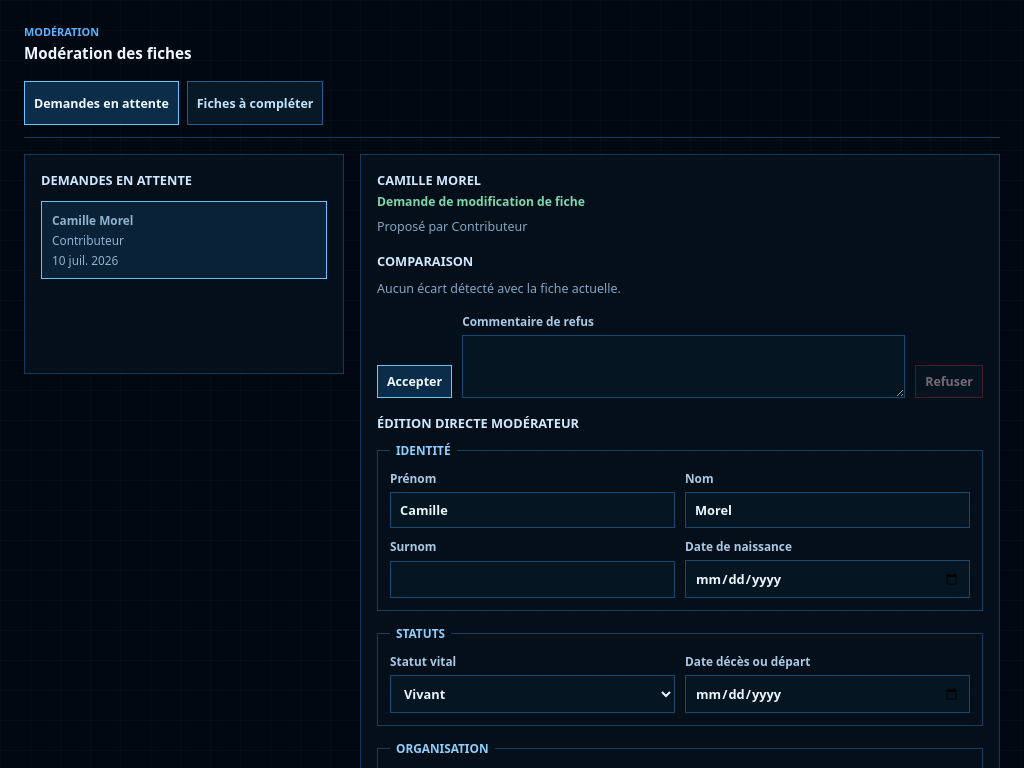
Test: ModerationView › rejects a request with the moderator comment
Type "Doublon" into the text box labelled "Commentaire de refus" at (684, 366), box [462,335,905,398]
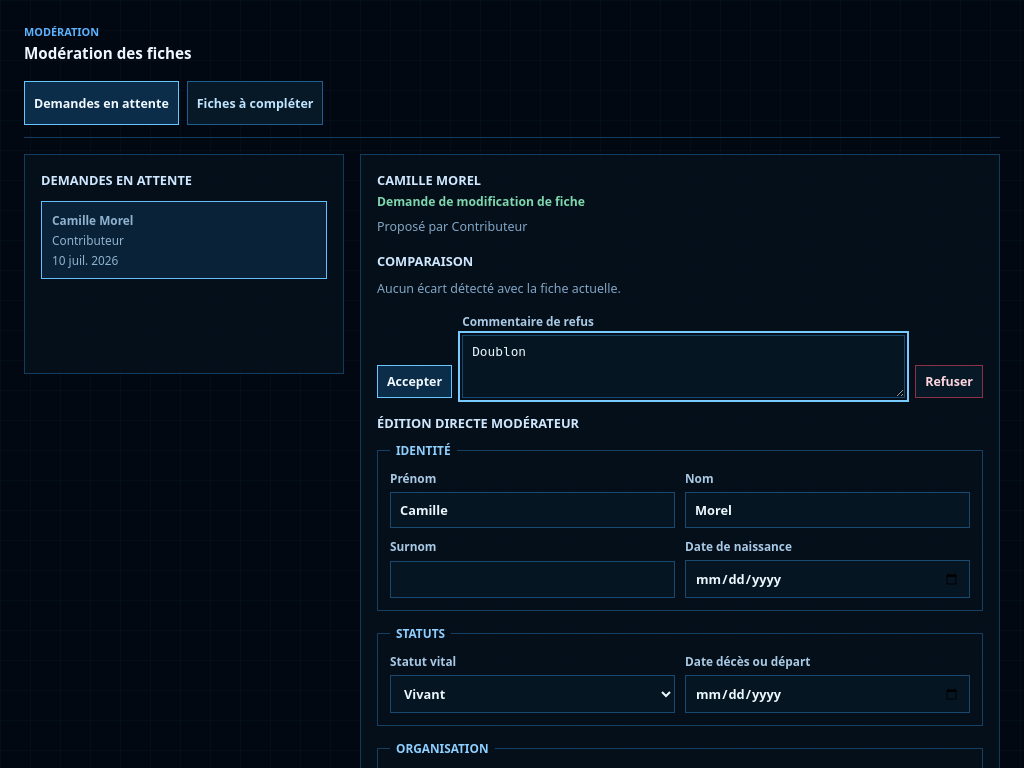
Click the button "Refuser" at (949, 382), box [915,365,983,398]
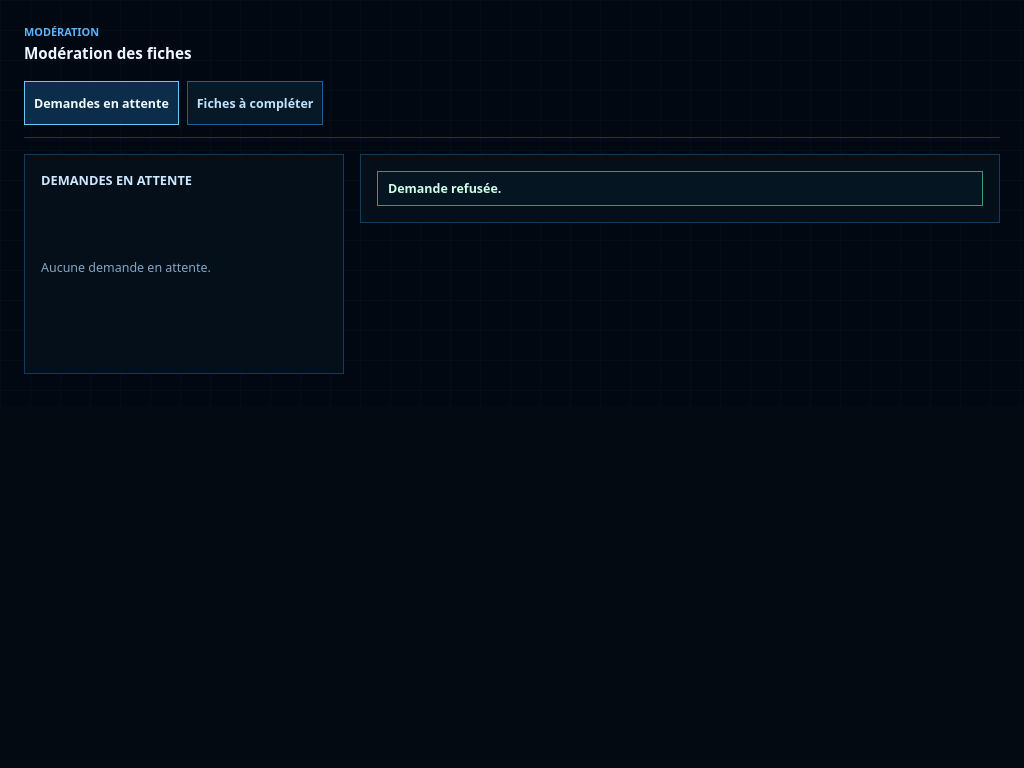
expect the text "Demande refusée." is shown: met, box [377,171,983,206]
